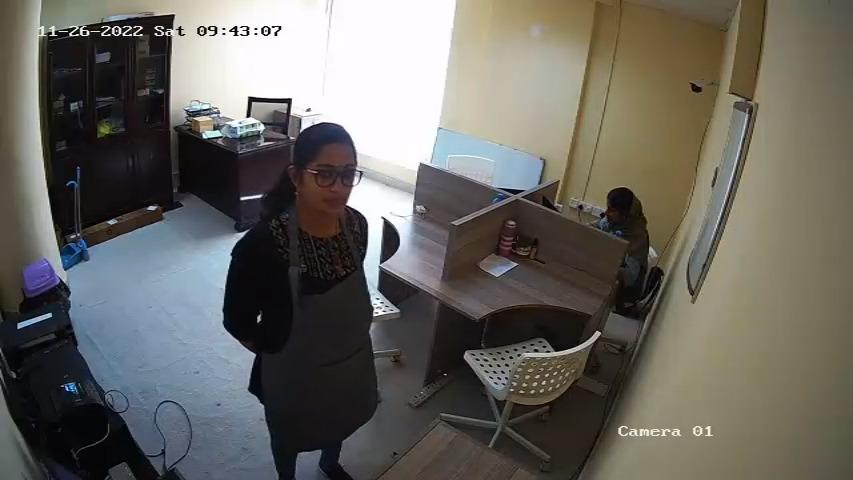apron: (258, 213, 367, 415)
